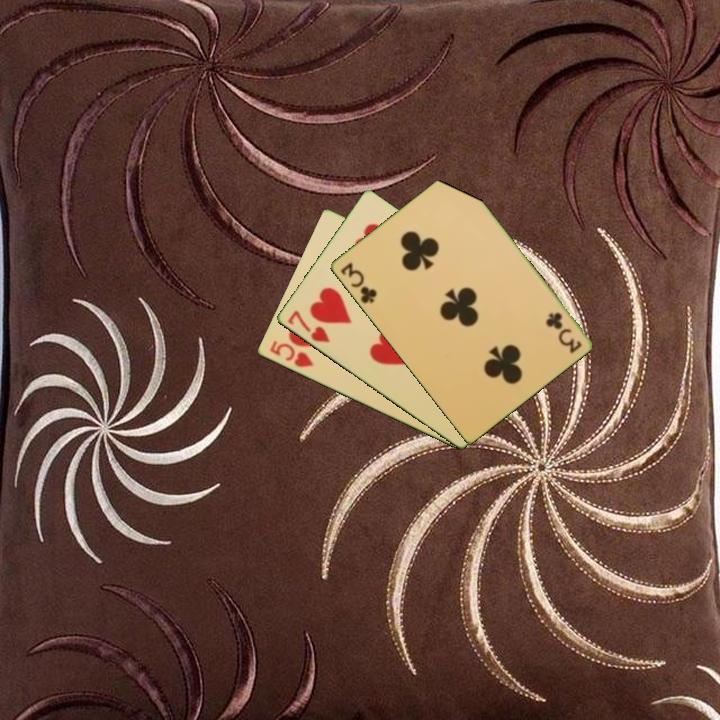3c: (337, 259, 380, 306), (542, 308, 584, 356)
5h: (266, 337, 316, 370)
7h: (284, 307, 333, 346)
